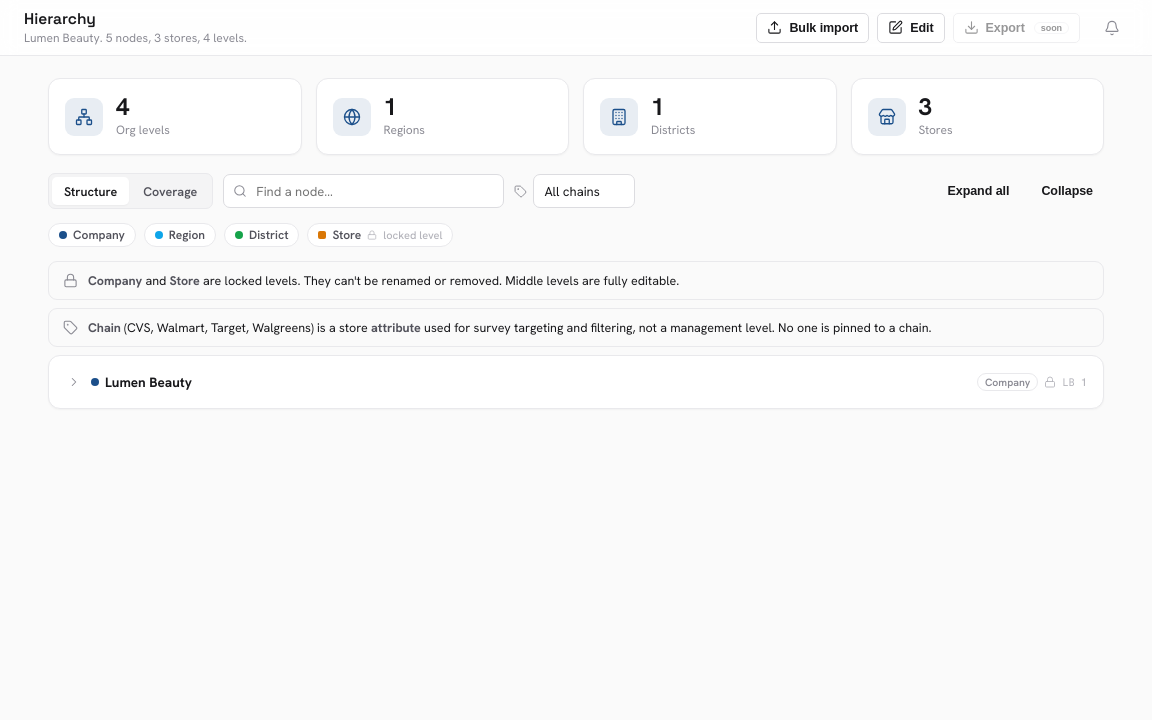
Test case: Hierarchy page › expands all nodes with Expand all and shows stores
Expected: the text "Lumen Beauty" is shown, [105,373,192,391]
Click the button "Expand all" at (978, 191), box [936,176,1020,206]
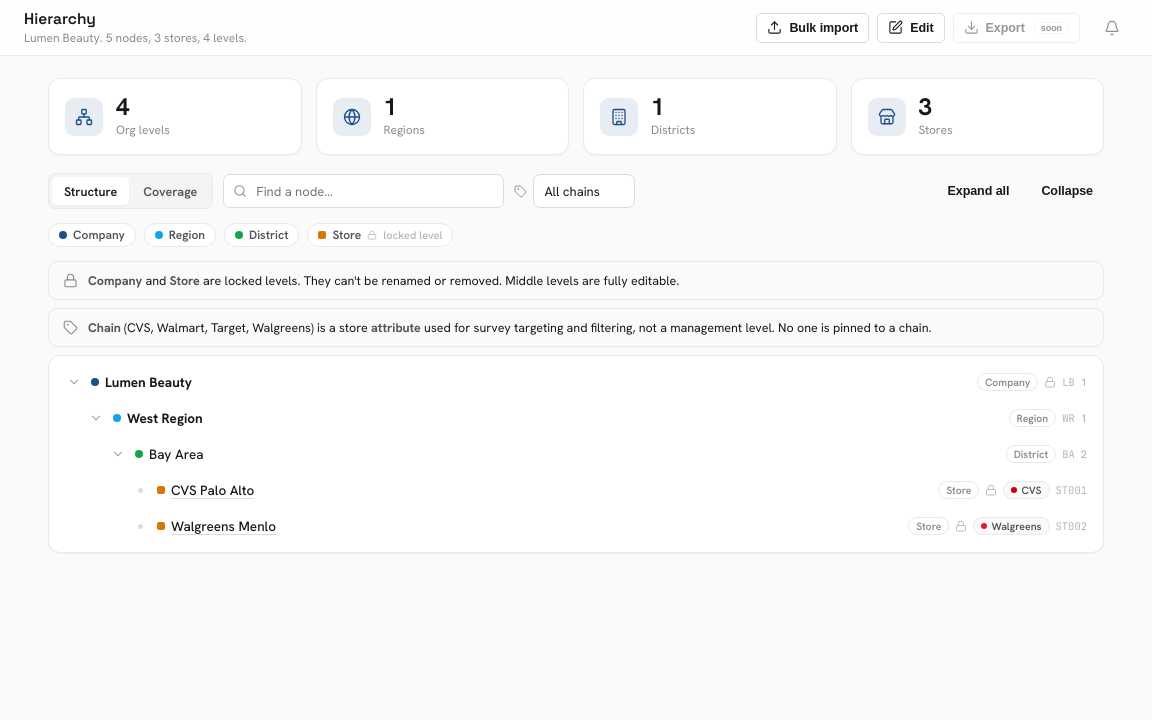
Result: the button "CVS Palo Alto" is shown at [171,481,932,499]
Result: the button "Walgreens Menlo" is shown at [171,517,902,535]
